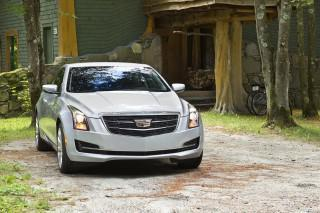cadillac: (130, 116, 156, 130)
